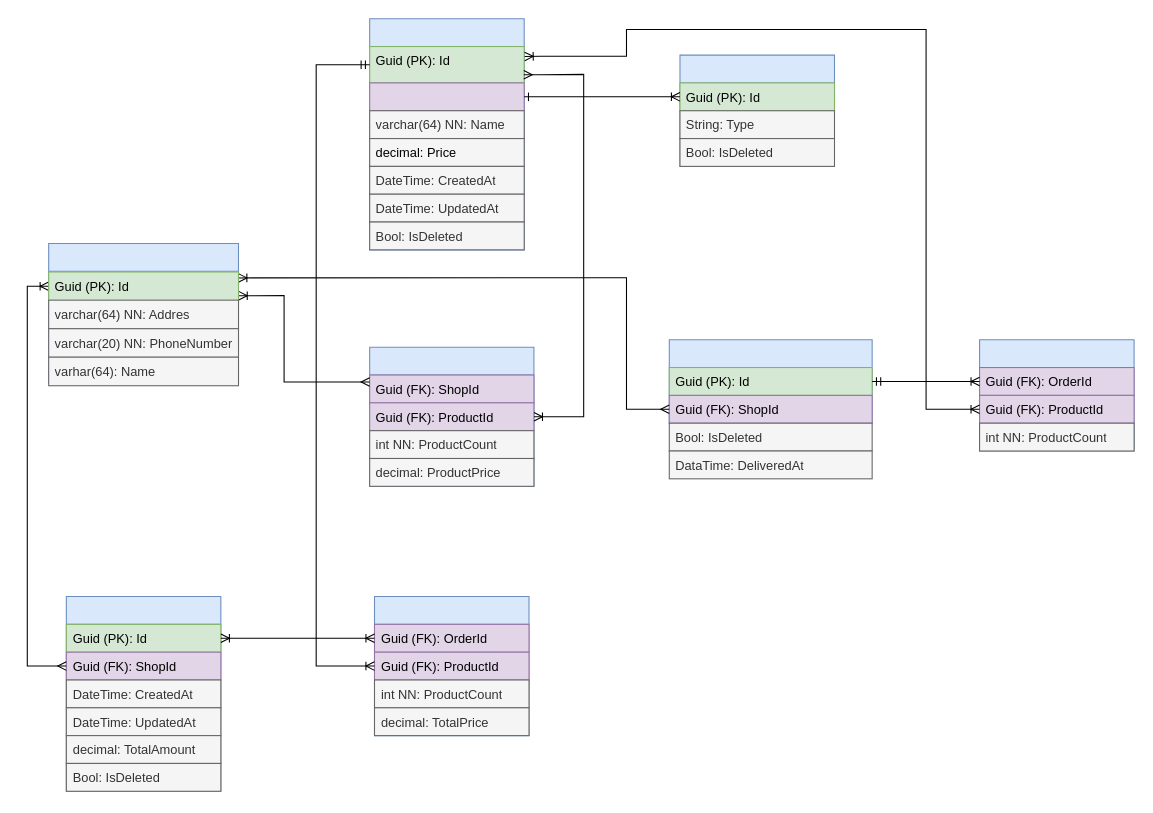
This 1153x813 diagram has some shape labels left out. The box of each missing label's shape, as (x1, y1, x2, y2) in pixels:
Guid(FK): TypeId: (369, 82, 524, 111)
Product_Types: (679, 54, 834, 166)
Products: (369, 18, 524, 250)
Saled_Products: (373, 595, 529, 736)
Shop_Checks: (65, 595, 221, 791)
Shop_Storage_Inventory: (369, 346, 534, 486)
Shops: (48, 242, 239, 383)
Warehouse_Orders: (979, 339, 1134, 451)
Warehouse_Transfer_Requests: (668, 339, 872, 423)
